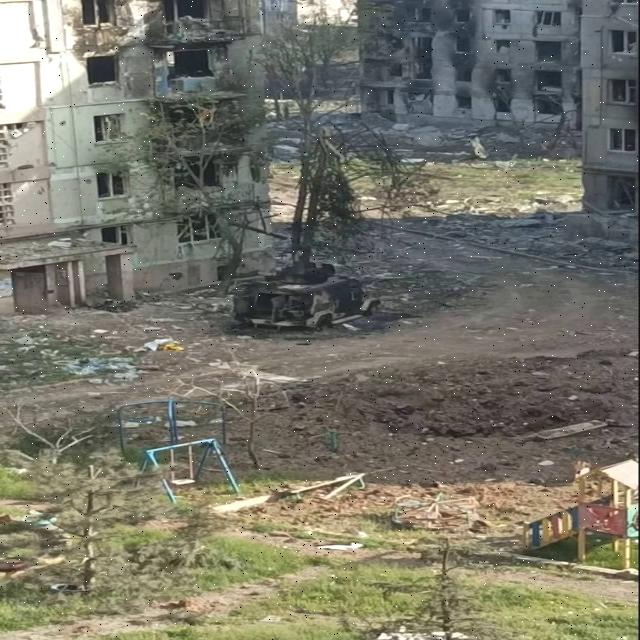Vehicle: (223, 260, 391, 337)
